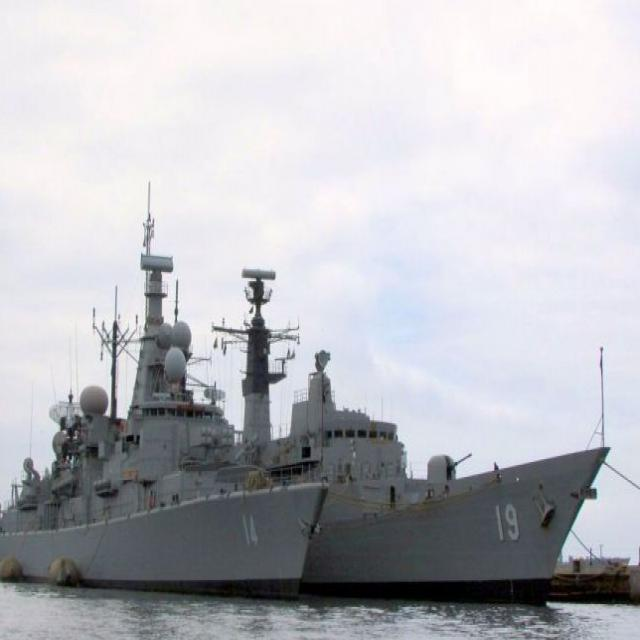Fragata: (218, 248, 613, 610), (1, 172, 331, 604)
